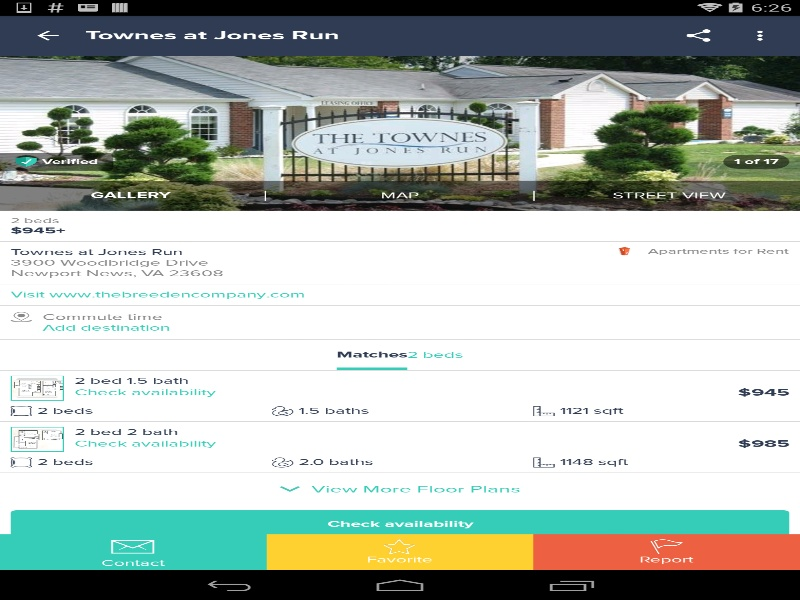Button: (10, 510, 789, 538), (620, 538, 780, 566), (10, 15, 85, 55), (682, 102, 789, 130), (682, 109, 789, 137), (10, 450, 64, 475), (10, 490, 64, 515), (10, 445, 42, 460), (757, 445, 789, 460), (10, 414, 42, 429), (757, 414, 789, 429), (10, 544, 42, 559), (757, 544, 789, 559), (10, 427, 42, 442), (757, 427, 789, 442), (10, 557, 42, 572), (757, 557, 789, 572)
Input: (10, 146, 789, 220), (10, 160, 789, 234), (10, 225, 789, 253), (10, 258, 789, 286), (10, 291, 789, 319), (10, 239, 789, 267), (10, 272, 789, 300), (10, 305, 789, 333)
